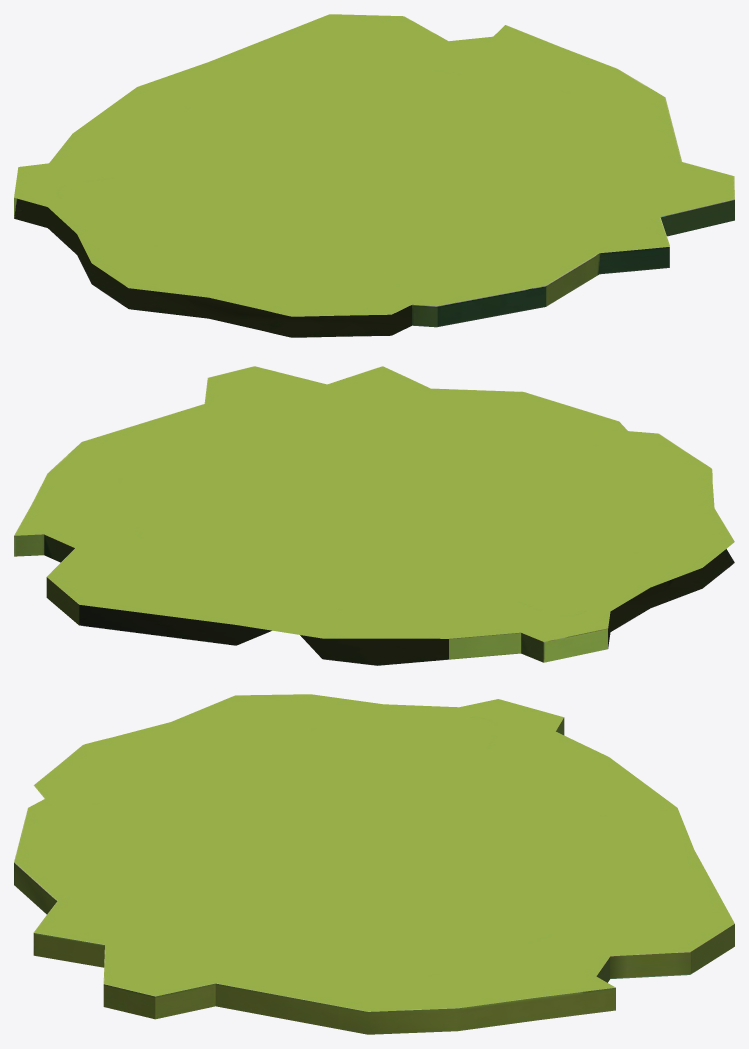
File: hole.gltf
3 views of the same model, one above another, from view 1: azimuth 30°, elevation 25°; view 2: azimuth 150°, elevation 25°; view 3: azimuth 270°, elevation 25° (orthographic). The views are drawn at different scales.
Visible parts, largest first — view 1: Mesh_0; view 2: Mesh_0; view 3: Mesh_0.
Boxes of the visible parts, x1,y1,x2,y2 form: Mesh_0: [14, 14, 734, 337]; Mesh_0: [14, 366, 734, 665]; Mesh_0: [14, 694, 734, 1034].
Bounding box in the file's own units: 15.83 × 0.6581 × 15.18.
1 material, 1 textured.
